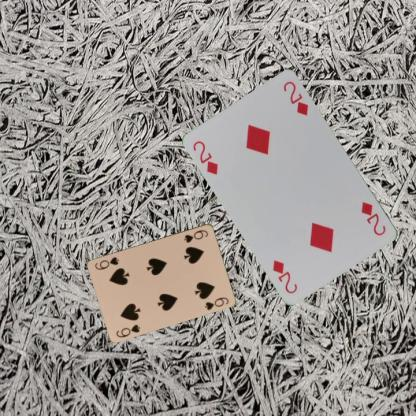2d: (358, 199, 388, 237), (190, 138, 220, 176)
6s: (114, 321, 141, 339), (182, 227, 209, 244)
